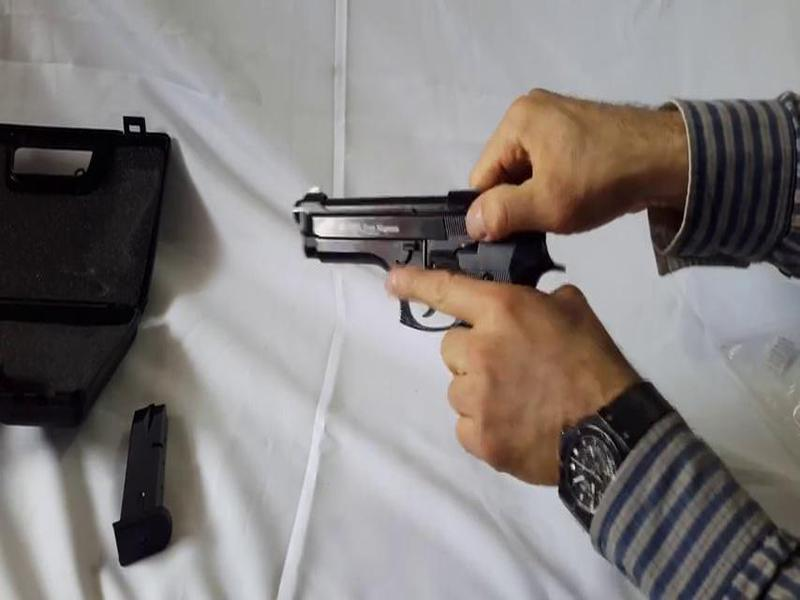Pistola: (282, 157, 605, 408)
